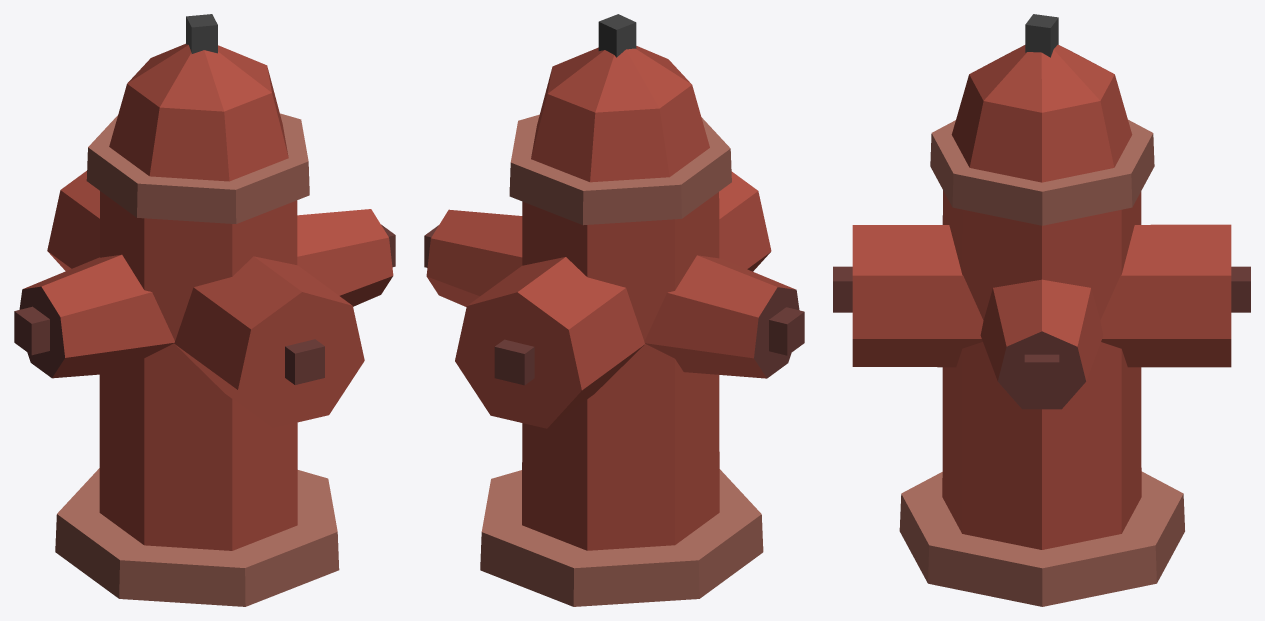
File: fire_hydrant_001.glb
3 views of the same model, side by side, from view 1: azimuth 30°, elevation 25°; view 2: azimuth 150°, elevation 25°; view 3: azimuth 270°, elevation 25° (orthographic).
Parts seen in each view (by area): view 1: fire_hydrant_001; view 2: fire_hydrant_001; view 3: fire_hydrant_001.
Part boxes in pixels (x1=…): fire_hydrant_001: x1=14, y1=14, x2=395, y2=606; fire_hydrant_001: x1=424, y1=14, x2=804, y2=606; fire_hydrant_001: x1=833, y1=14, x2=1250, y2=606.
Bounding box in the file's own units: 0.5839 × 0.8078 × 0.5839.
Materials: 1 (1 with a texture image).
